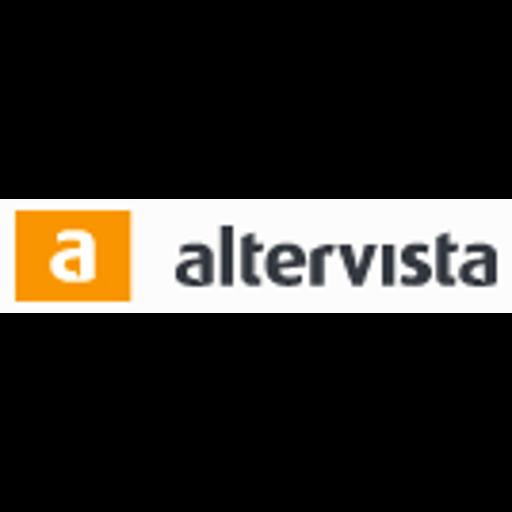DGI -French Tax Authority-: (0, 199, 512, 313)
